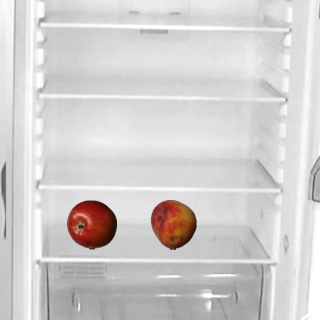Apple Braeburn: (66, 199, 116, 249)
Peach: (148, 199, 198, 249)
